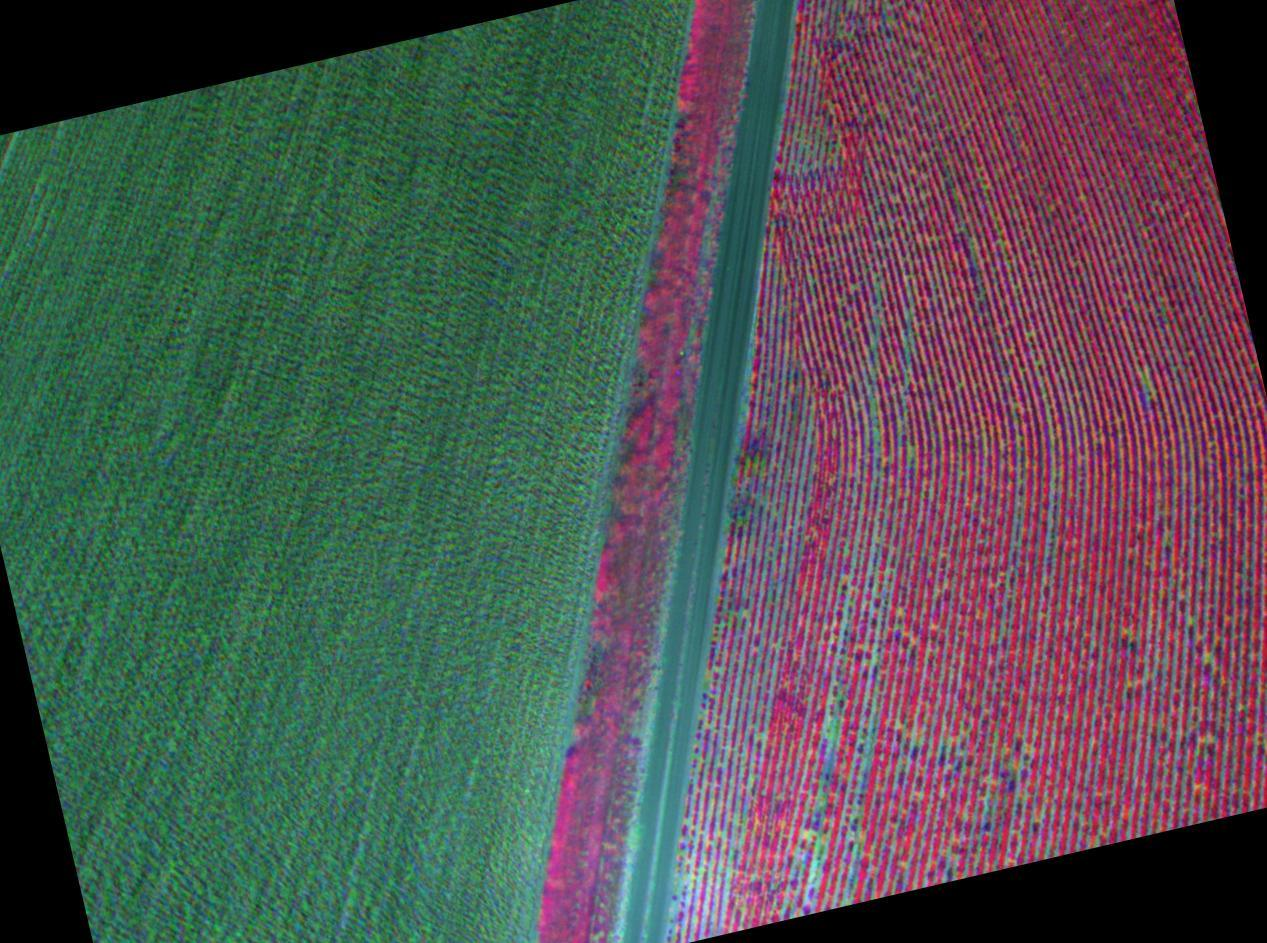dc: (1204, 655, 1210, 661), (828, 721, 834, 726), (804, 833, 810, 838), (1144, 383, 1147, 387), (852, 286, 855, 288)
